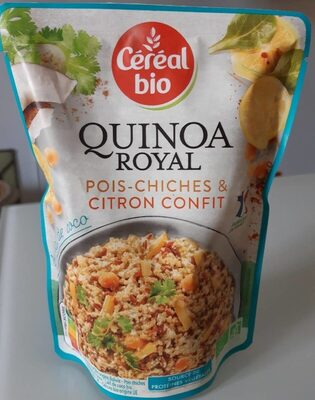Quinoa royal - Pois-chiches & citron confit: (16, 20, 299, 380)
